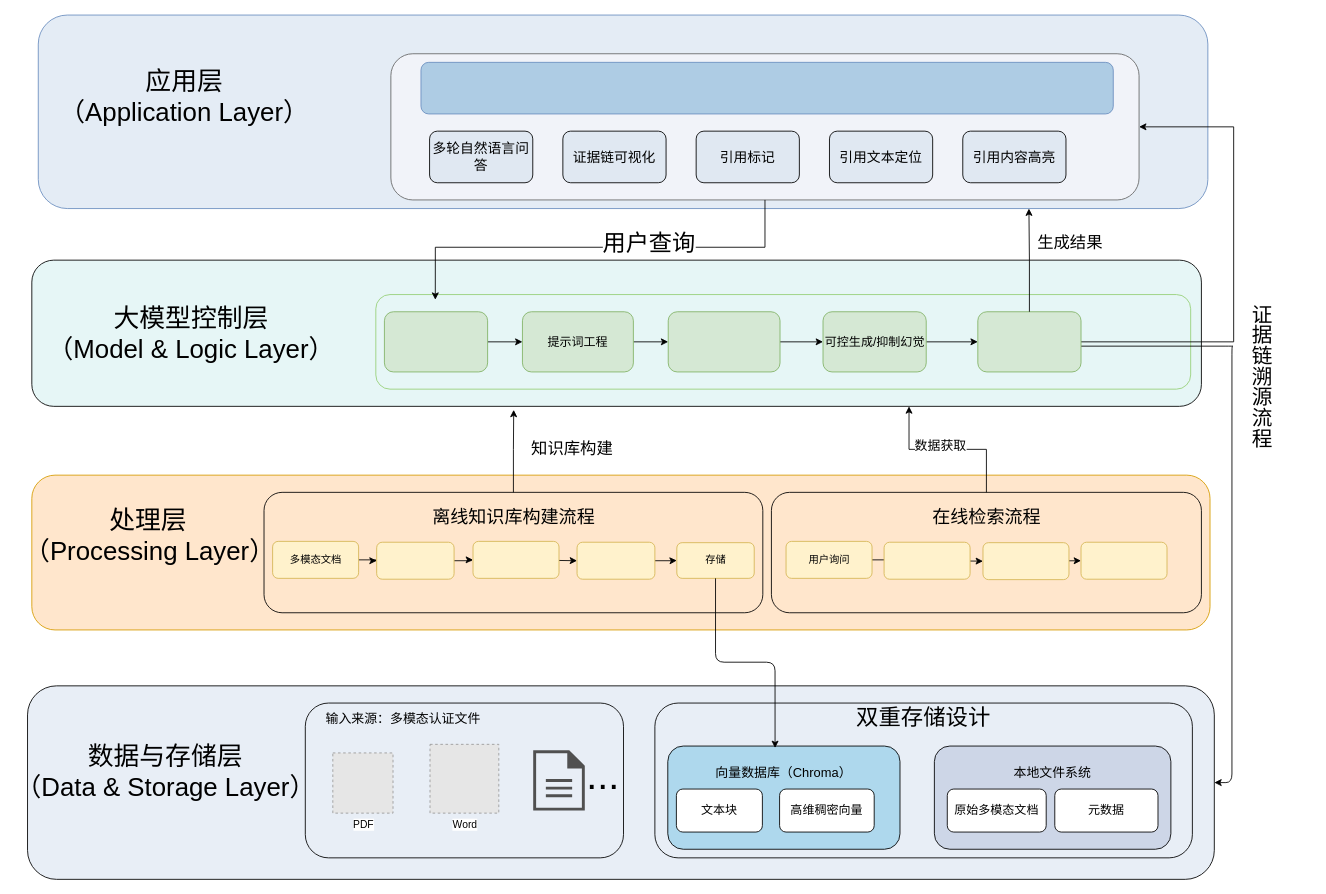
This 1326x894 diagram has some shape labels left out. Grey dashed boxes stand in for pictures. The centre of each missing label's shape, as x and y in pixels:
embedding嵌入: pixel 615 560
LangChain工作流: pixel 436 341
基于Vue的Web界面: pixel 766 87
大模型 API: pixel 1029 341
教学大纲: pixel 558 780
查询+检索证据组装: pixel 723 341
稠密向量检索: pixel 926 560
结构化提取: pixel 415 560
语义分割: pixel 515 559
重排 （bge-reranker-v2-m3 ）: pixel 1025 561
高精度上下文: pixel 1123 560
